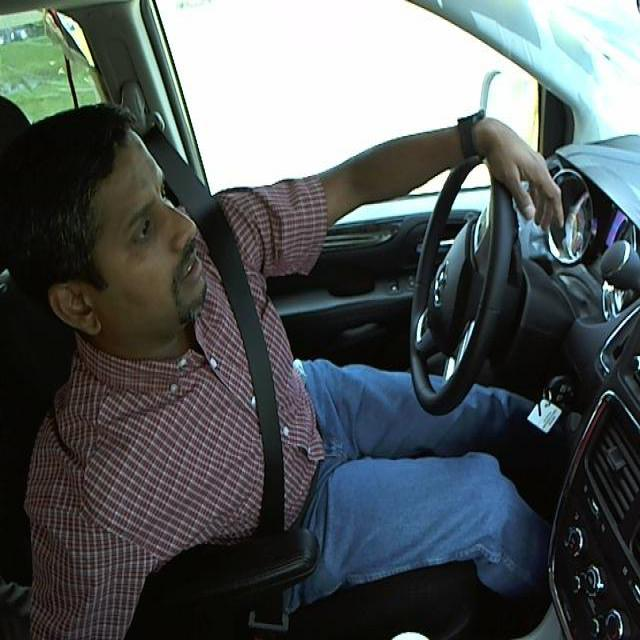seatbelt: (176, 184, 313, 533)
